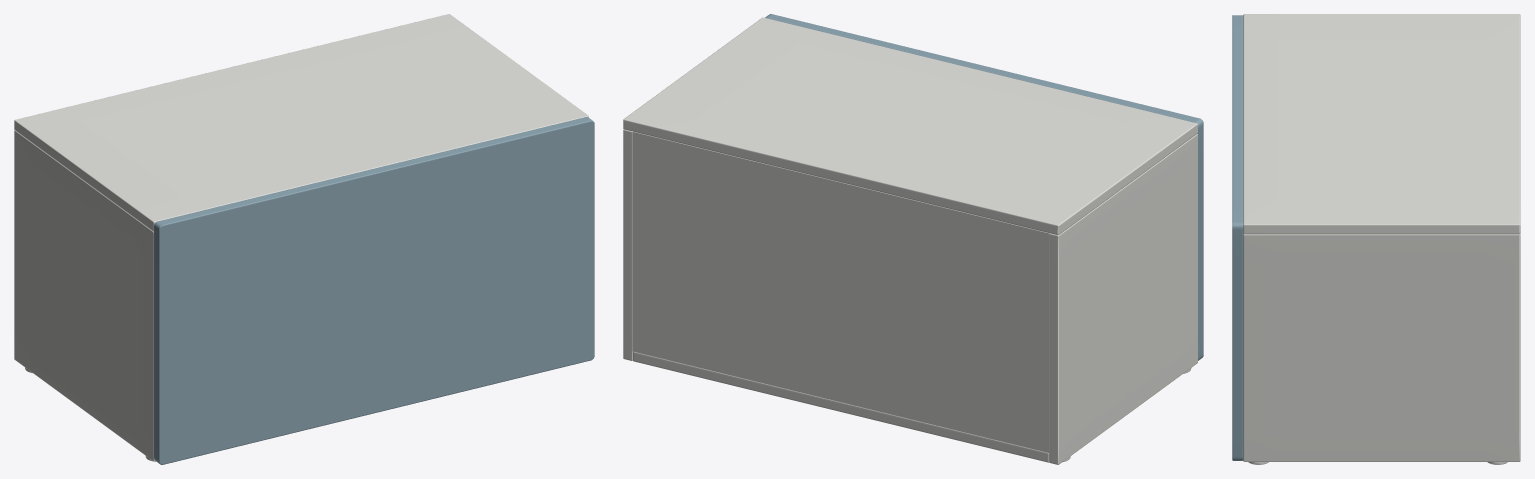
File: 03 - SMÅSTAD Bench with toy storage - whiteblue 90x52x48 cm.glb
3 renders of one model, left to right at view 1: azimuth 30°, elevation 25°; view 2: azimuth 150°, elevation 25°; view 3: azimuth 270°, elevation 25°, orthographic.
Visible parts, largest first — view 1: Mesh_0; view 2: Mesh_0; view 3: Mesh_0.
Part boxes in pixels (x1,y1,x2,y2): Mesh_0: [14, 14, 594, 464]; Mesh_0: [623, 14, 1203, 464]; Mesh_0: [1232, 14, 1520, 464].
Size of the model in its own units: 0.9 by 0.4801 by 0.5198.
2 materials, 2 textured.
